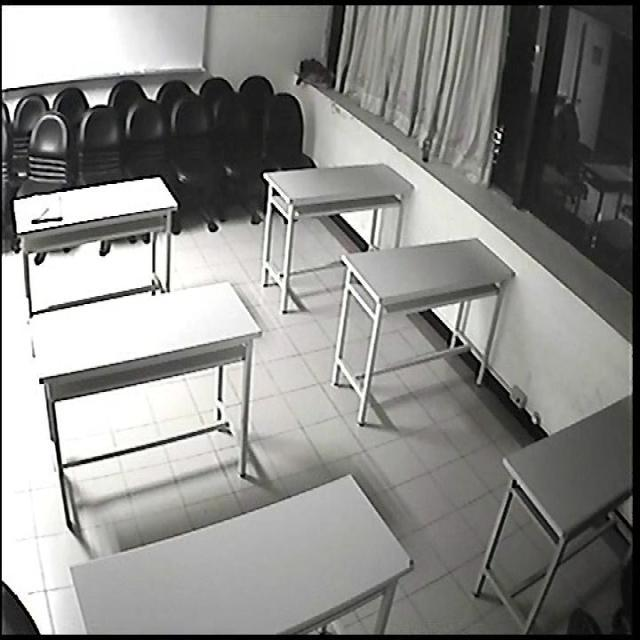abandoned-object: (294, 54, 336, 104)
